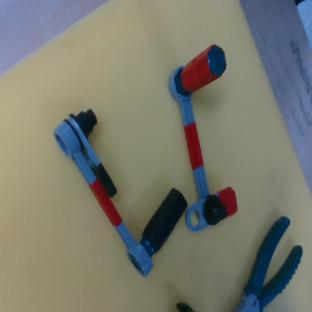non_pass: (26, 97, 205, 277)
pass: (166, 44, 238, 233)
